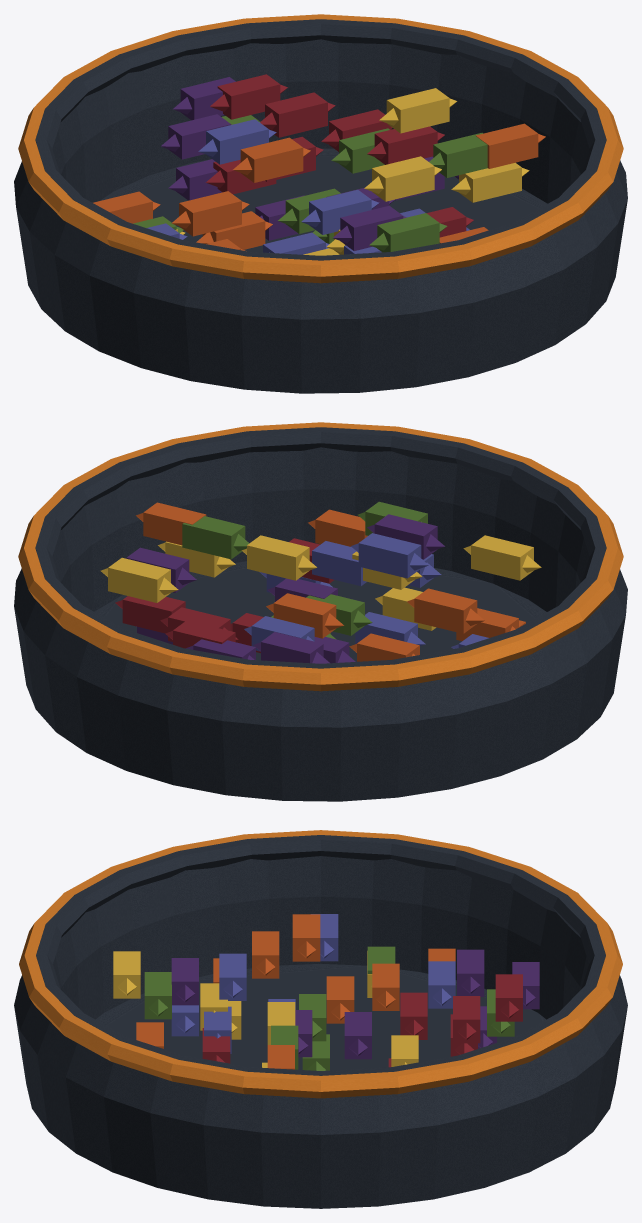
Rendered from EVHalloween_Decor_HalloweenCandyBowl_Fill3.fbx.
3 renders of one model, top to bottom at view 1: azimuth 30°, elevation 25°; view 2: azimuth 150°, elevation 25°; view 3: azimuth 270°, elevation 25°, orthographic.
Parts seen in each view (by area): view 1: EVHalloween_Decor_PumpkinOrange; view 2: EVHalloween_Decor_PumpkinOrange; view 3: EVHalloween_Decor_PumpkinOrange.
Part boxes in pixels (left/top/right/bottom): EVHalloween_Decor_PumpkinOrange: left=14, top=14, right=627, bottom=393; EVHalloween_Decor_PumpkinOrange: left=14, top=422, right=627, bottom=801; EVHalloween_Decor_PumpkinOrange: left=14, top=830, right=627, bottom=1208.
Size of the model in its own units: 38 by 10.61 by 38.
